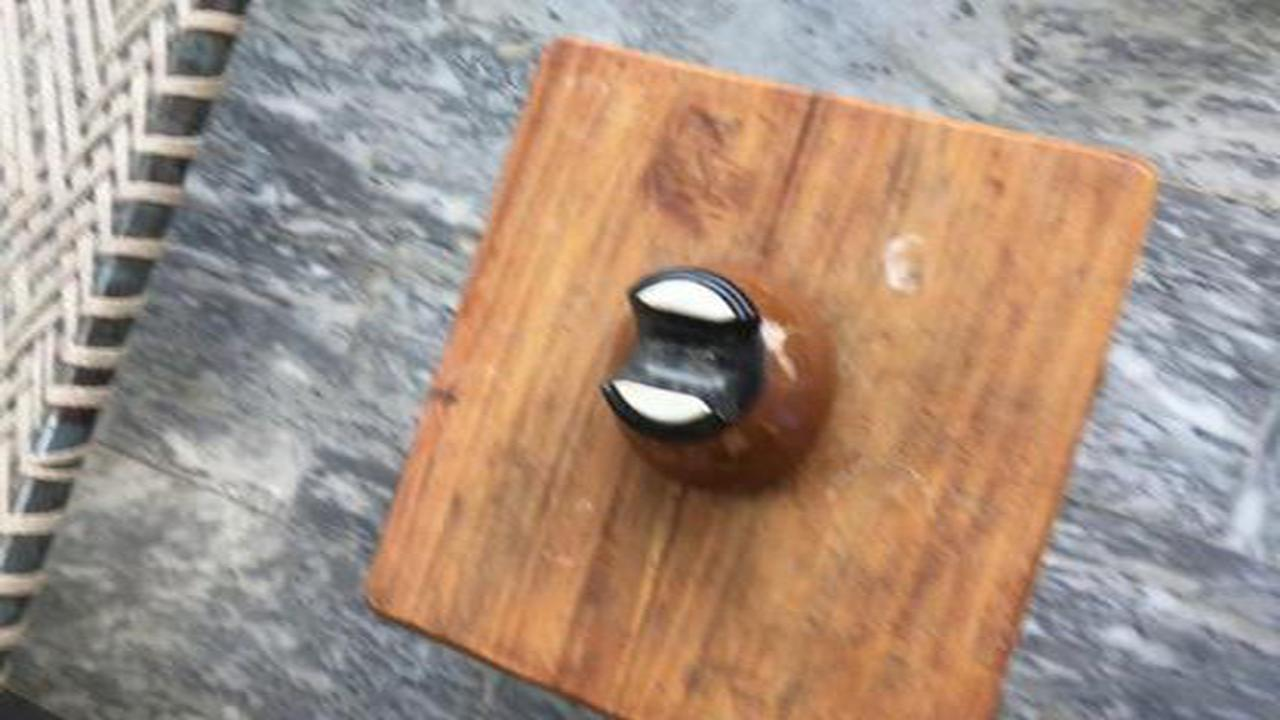insulator_pin: (573, 245, 868, 515)
